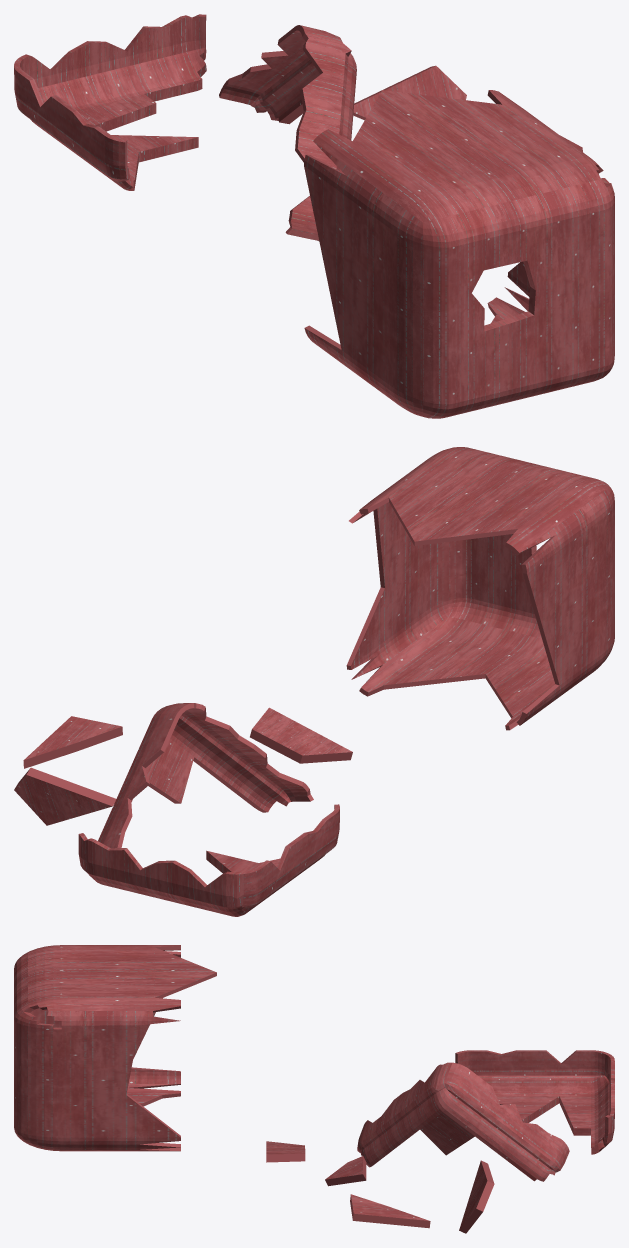
The model's file is gas tank.fbx.
3 views of the same model, one above another, from view 1: azimuth 30°, elevation 25°; view 2: azimuth 150°, elevation 25°; view 3: azimuth 270°, elevation 25° (orthographic). The views are drawn at different scales.
Parts seen in each view (by area): view 1: Roundcube.015; view 2: Roundcube.015; view 3: Roundcube.015.
Boxes of the visible parts, <box> form: Roundcube.015: <box>14,14,614,418</box>; Roundcube.015: <box>14,447,614,916</box>; Roundcube.015: <box>14,945,614,1233</box>.
Size of the model in its own units: 405 by 756 by 247.
